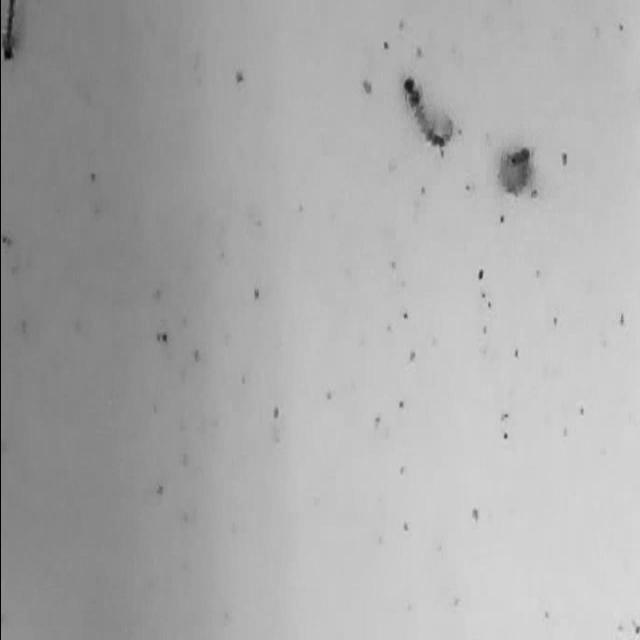larvas: (403, 74, 453, 144), (500, 147, 530, 193), (0, 0, 19, 60)
